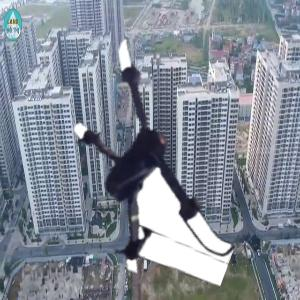drone: (34, 45, 262, 273)
